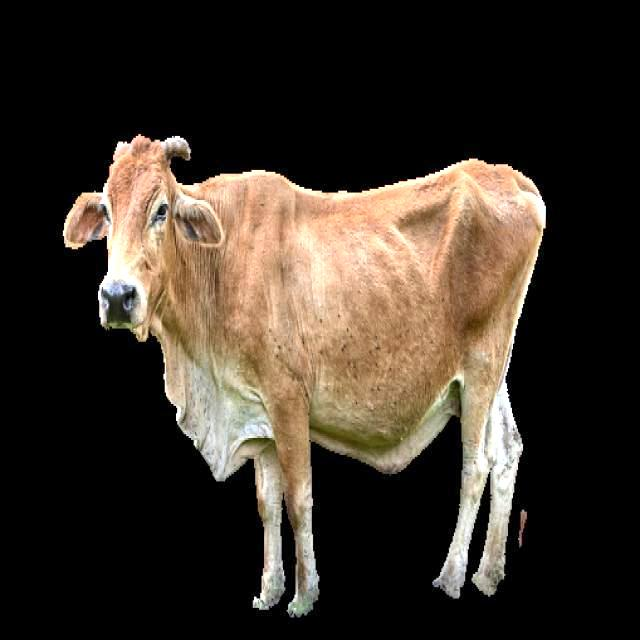COW: (65, 136, 545, 616)
